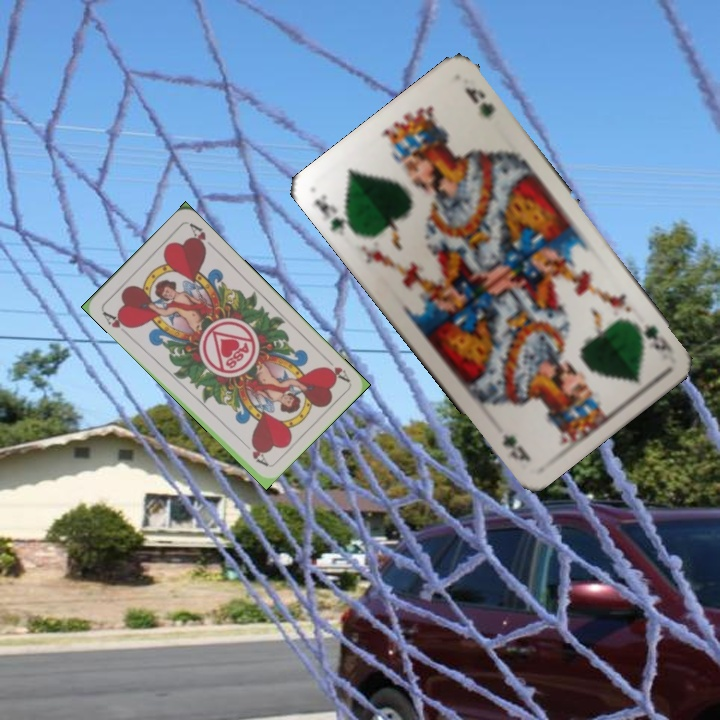GK: (310, 190, 358, 240), (640, 321, 676, 355)
HA: (98, 307, 135, 338), (319, 352, 352, 384)
